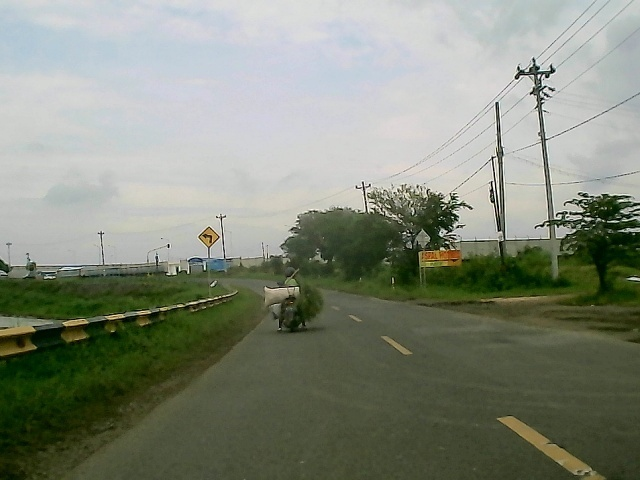Tikungan tajam ke kiri: (196, 224, 221, 249)
